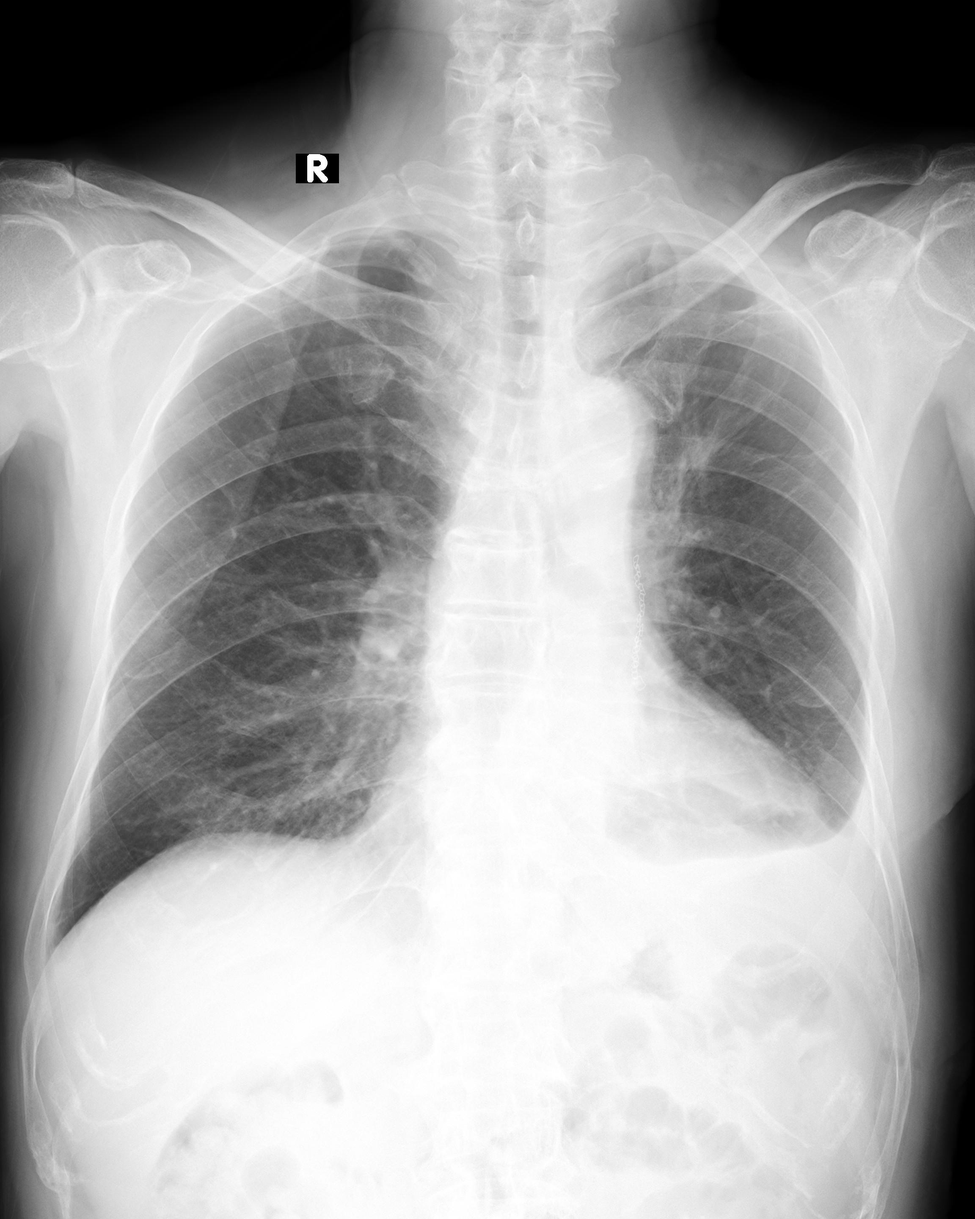Aortic enlargement: (537, 372, 659, 491)
